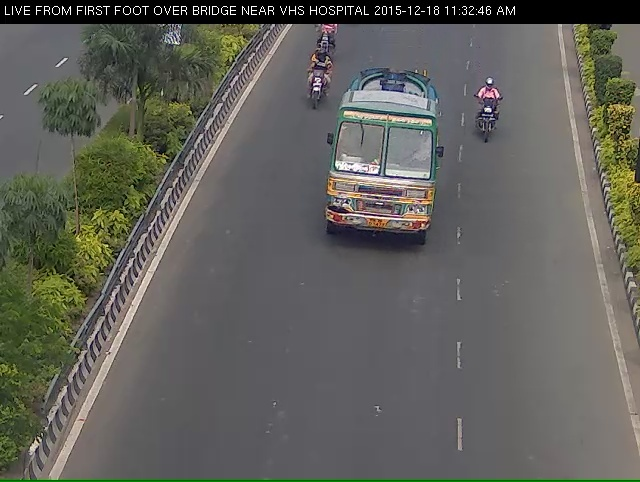Bus: (332, 78, 449, 269)
Person: (471, 82, 516, 163), (302, 19, 346, 71), (300, 53, 329, 121)
